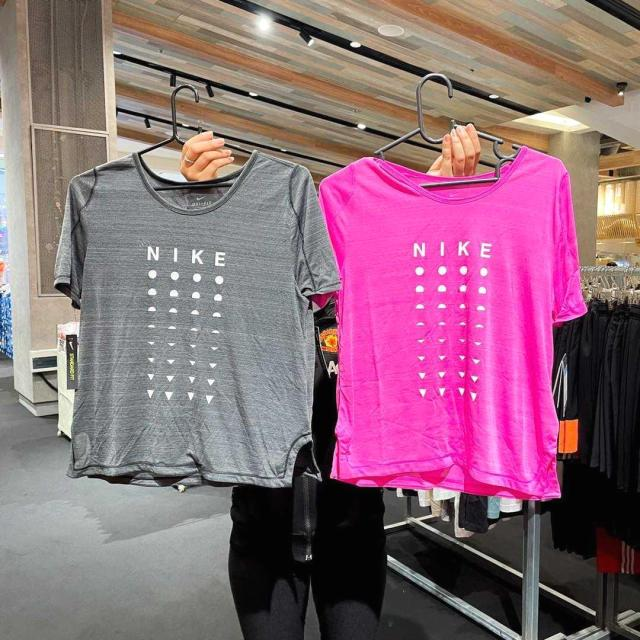Tshirt: (314, 153, 590, 483), (62, 152, 324, 482)
